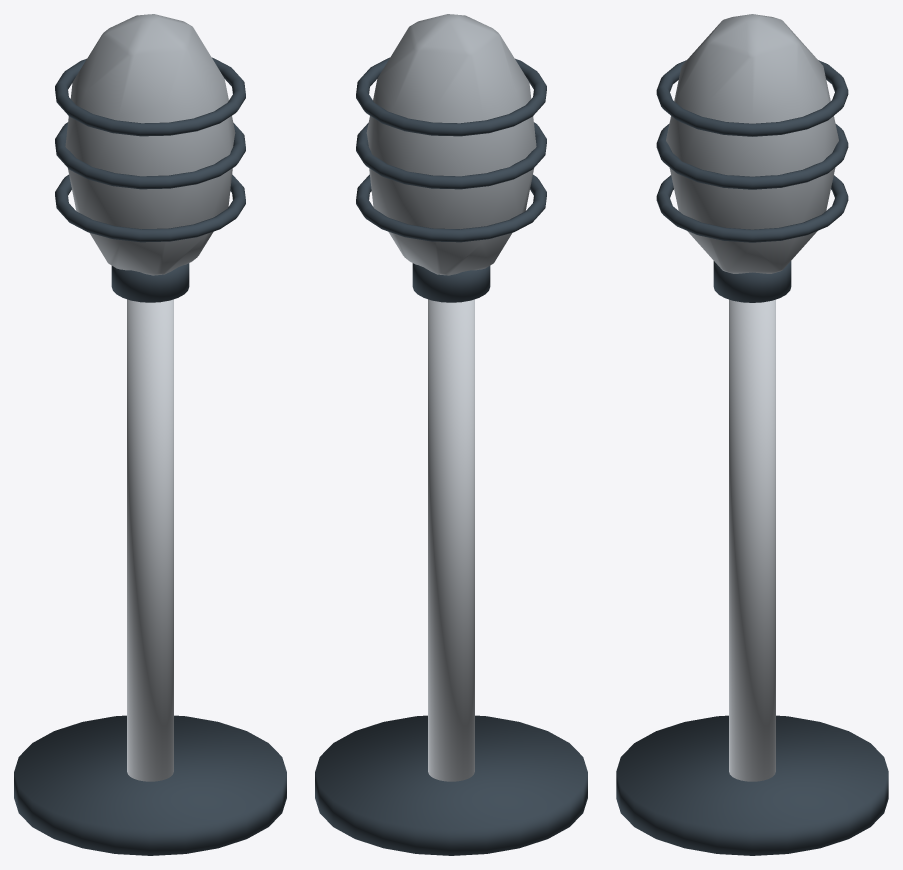
File: microphone.glb
3 renders of one model, left to right at view 1: azimuth 30°, elevation 25°; view 2: azimuth 150°, elevation 25°; view 3: azimuth 270°, elevation 25°, orthographic.
Parts seen in each view (by area): view 1: capsule, base, stem, grille-ring.002, grille-ring, grille-ring.001, clamp; view 2: capsule, base, stem, grille-ring.002, grille-ring, grille-ring.001, clamp; view 3: base, capsule, stem, grille-ring.002, grille-ring, grille-ring.001, clamp.
Boxes of the visible parts, bbox=[...] form: capsule: bbox=[65, 14, 235, 275]; base: bbox=[14, 715, 286, 855]; stem: bbox=[127, 299, 173, 781]; grille-ring.002: bbox=[55, 57, 245, 136]; grille-ring: bbox=[55, 174, 245, 242]; grille-ring.001: bbox=[55, 122, 245, 189]; clamp: bbox=[111, 263, 189, 302]; capsule: bbox=[366, 14, 536, 275]; base: bbox=[315, 715, 587, 855]; stem: bbox=[428, 299, 474, 781]; grille-ring.002: bbox=[356, 57, 546, 136]; grille-ring: bbox=[356, 174, 546, 242]; grille-ring.001: bbox=[356, 122, 546, 189]; clamp: bbox=[412, 263, 490, 302]; base: bbox=[616, 715, 888, 855]; capsule: bbox=[666, 14, 838, 273]; stem: bbox=[729, 299, 775, 781]; grille-ring.002: bbox=[656, 60, 848, 136]; grille-ring: bbox=[656, 175, 848, 242]; grille-ring.001: bbox=[656, 124, 848, 189]; clamp: bbox=[713, 261, 791, 302].
Bounding box in the file's own units: 0.14 × 0.4422 × 0.14.
